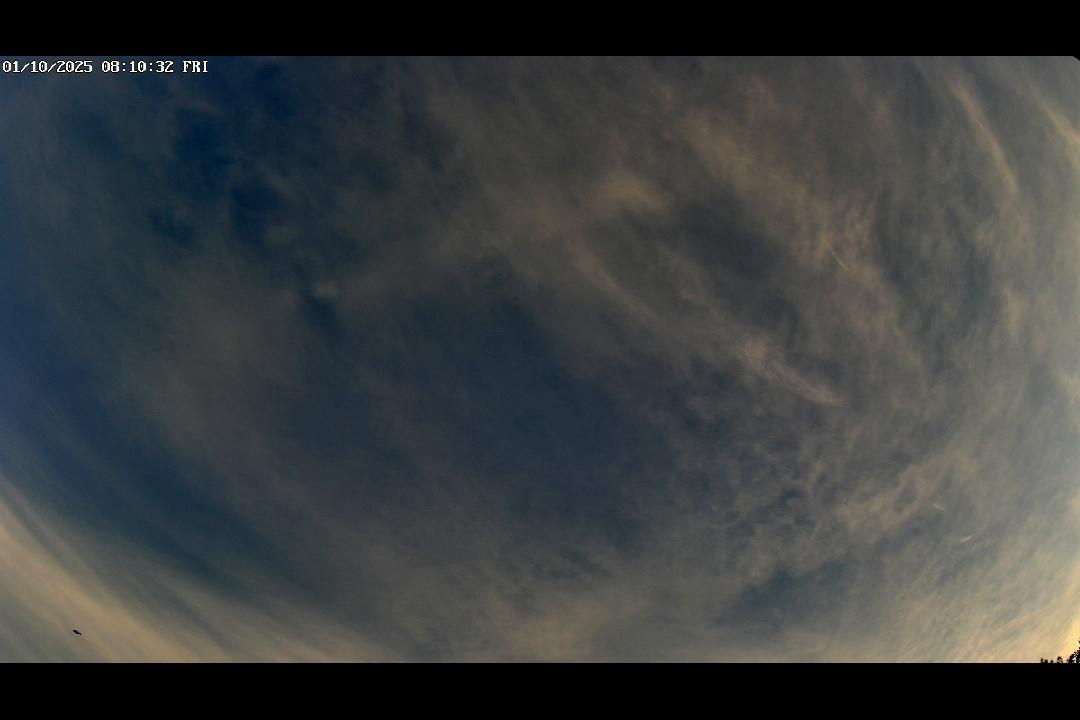WildLife: (59, 625, 95, 638)
